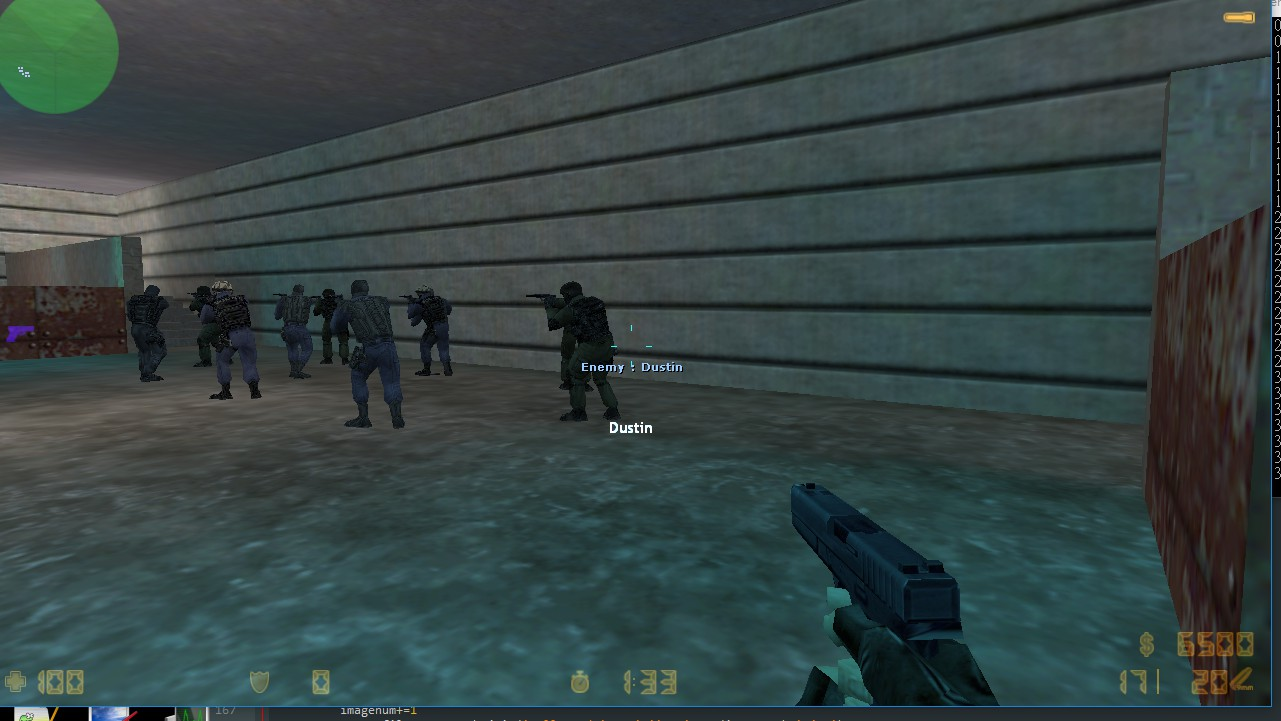person: (524, 273, 632, 430), (324, 277, 419, 436), (198, 276, 265, 412), (398, 278, 468, 390), (116, 273, 174, 393), (269, 279, 315, 386)
